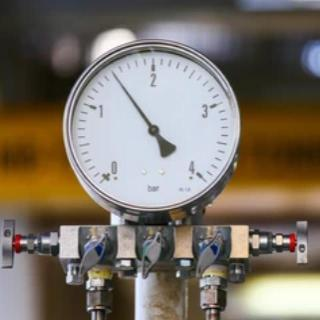gauge: (46, 39, 248, 225), (95, 158, 123, 190), (184, 158, 212, 188), (148, 123, 160, 137), (109, 69, 118, 79)
